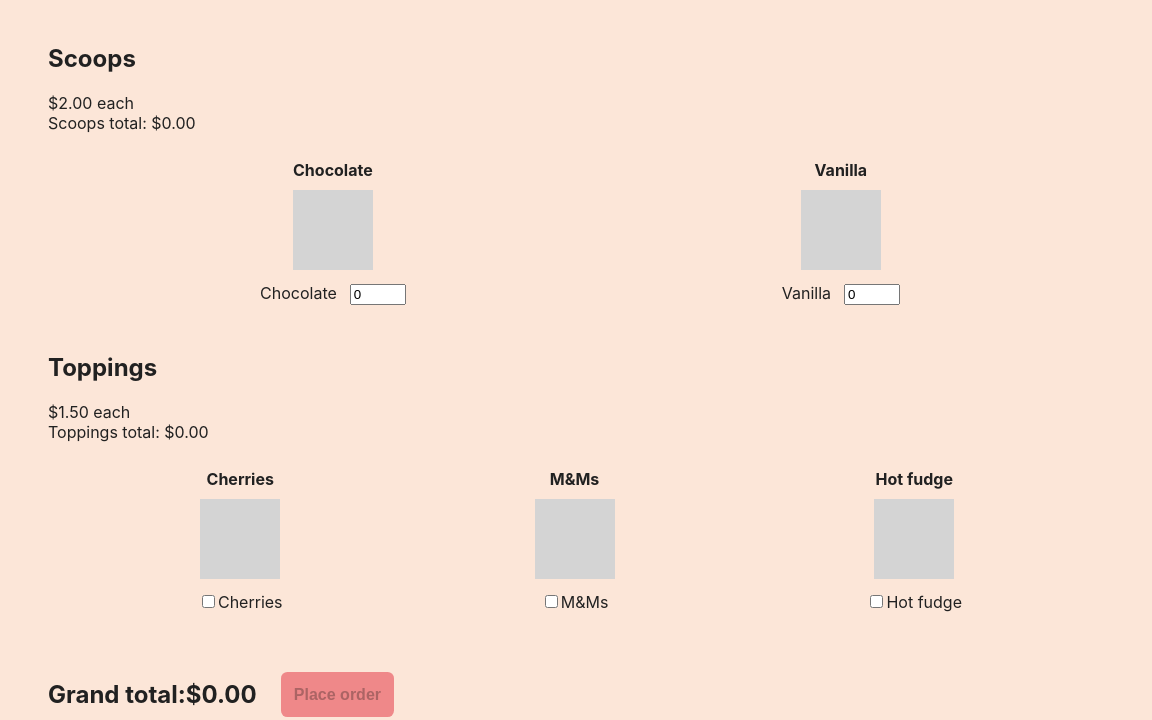
Toppings header is not on the page if no toppings were ordered
This screenshot has width=1152, height=720.
Replace the text in the number field labelled "Vanilla" with "1" at (872, 294), box [844,284,900,305]
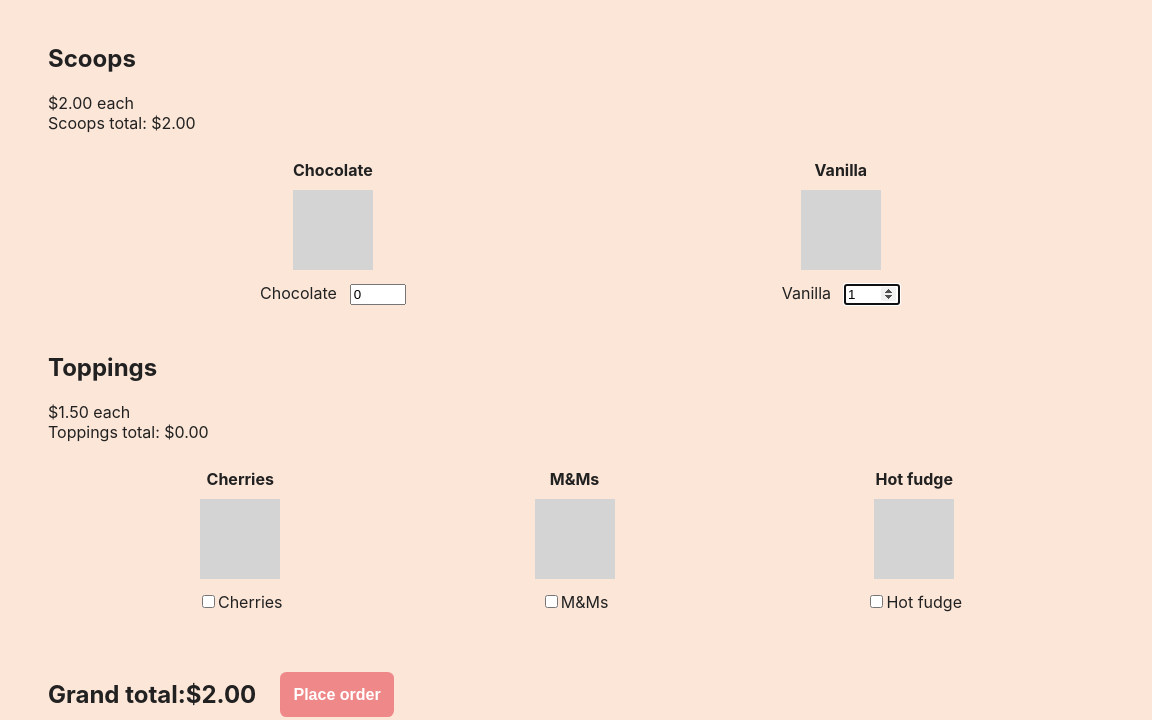
Replace the text in the number field labelled "Chocolate" with "2" at (378, 294), box [350,284,406,305]
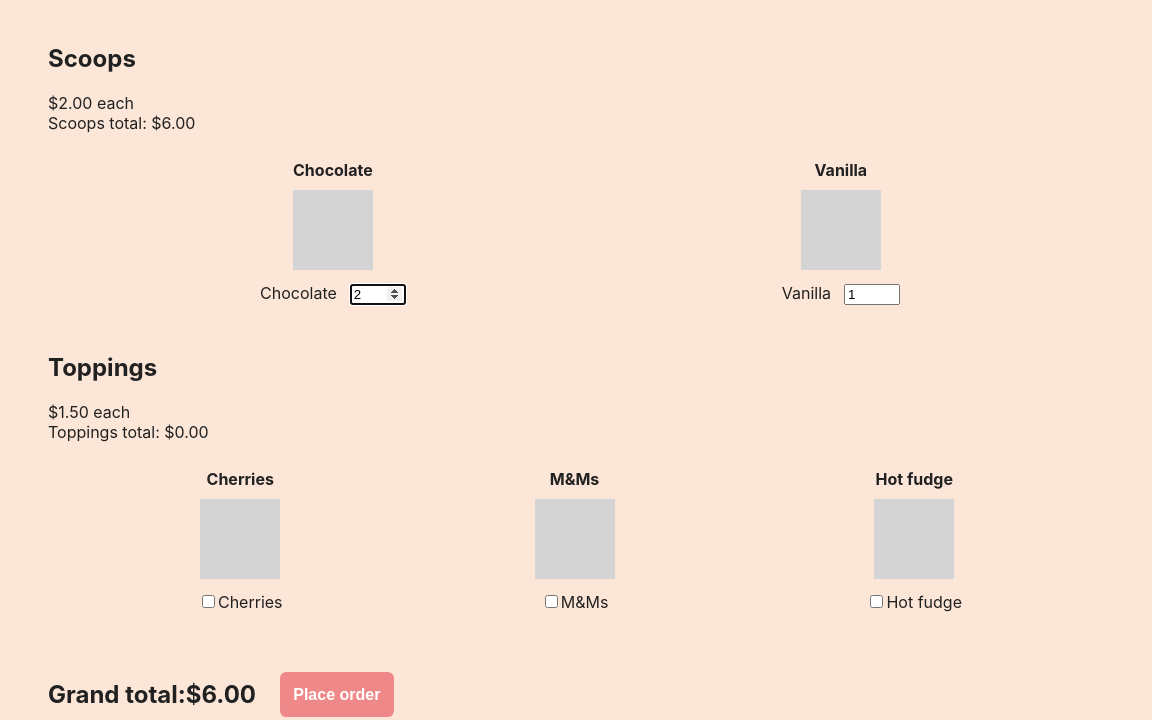
Click the button "Place order" at (337, 695), box [280,672,394,717]
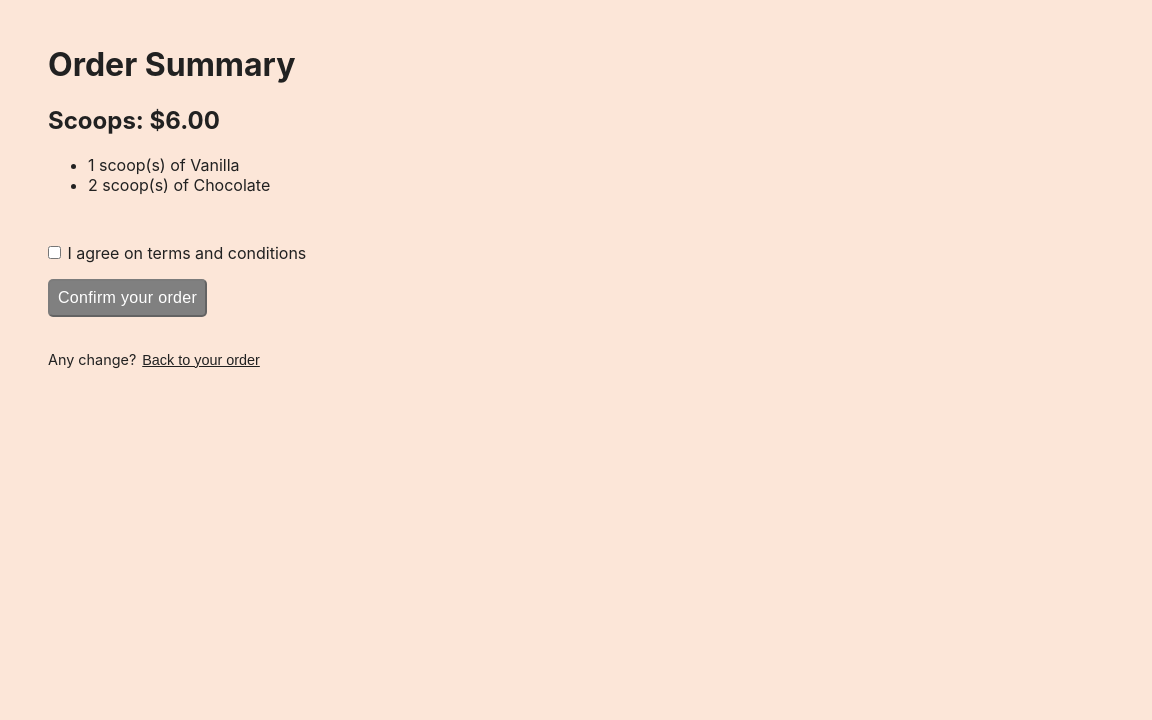
Result: the heading "Scoops: $6.00" is shown at [48,106,220,135]
Result: the heading "Toppings" is gone
